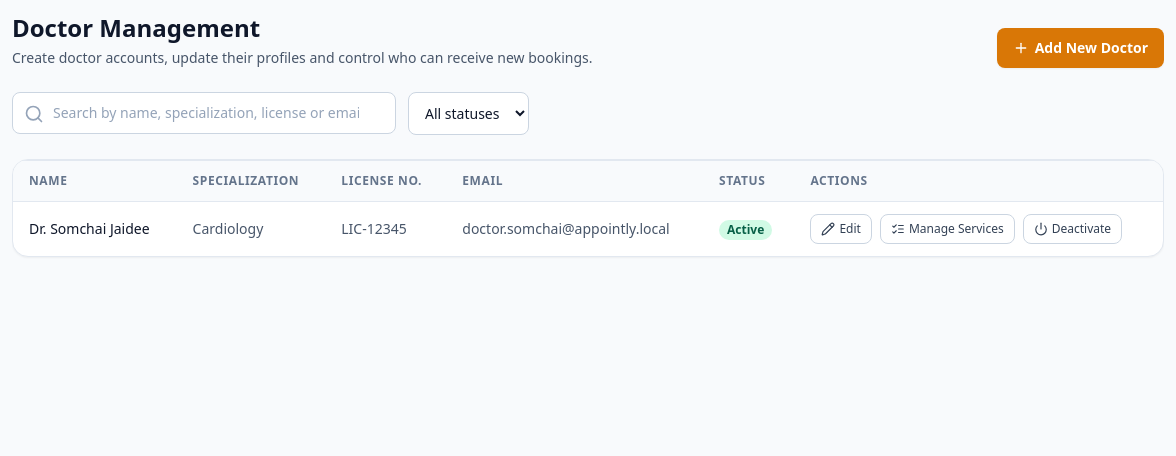
Test: AdminDoctorsPage (/admin/doctors) › shows a filtered empty state and clears the filters
Expected: the table is shown, [13, 160, 1163, 256]
Select "Inactive" in the dropdown named "Filter by status" at (468, 114), box [408, 92, 529, 135]
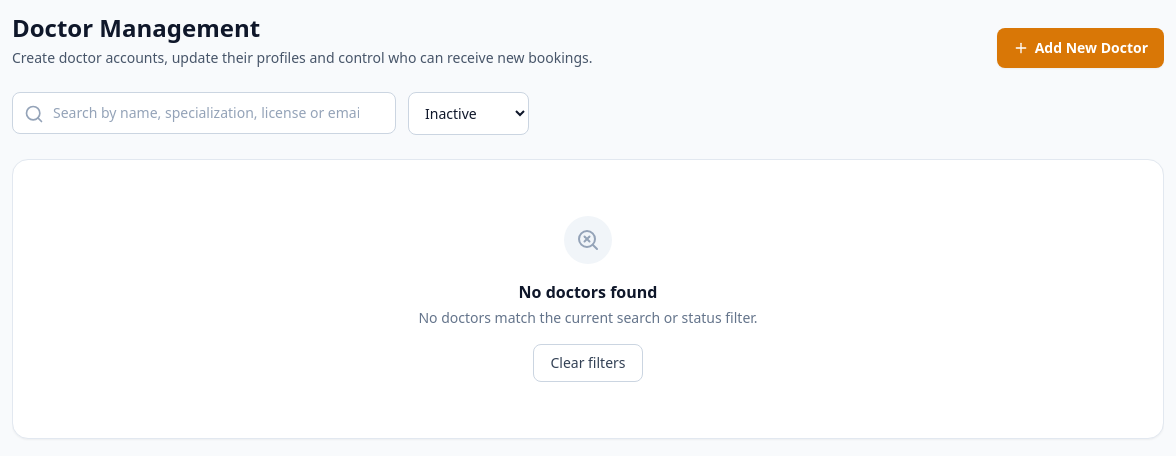
Result: the heading "No doctors found" is shown at [519, 281, 657, 303]
Click the button "Clear filters" at (588, 363), box [533, 344, 642, 382]
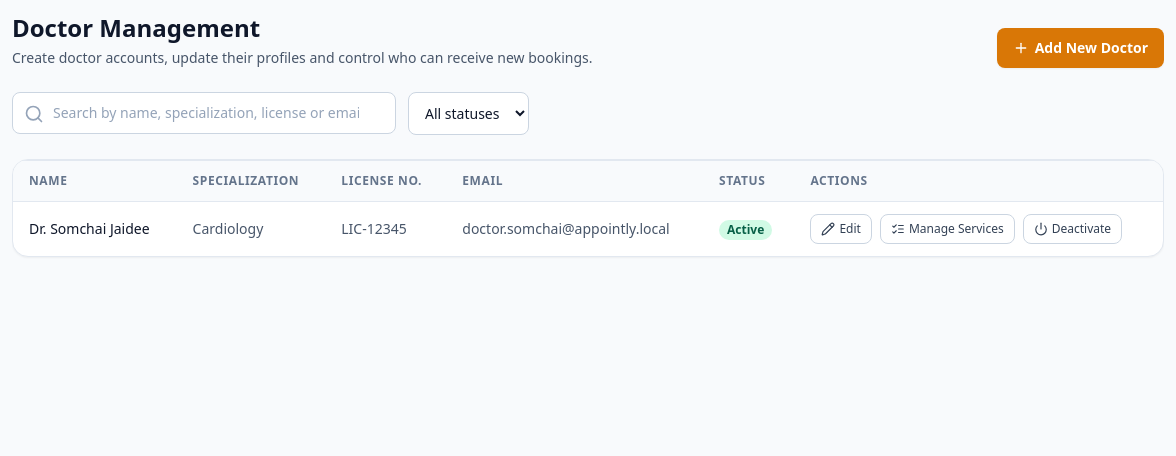
Result: the table is shown at [13, 160, 1163, 256]
